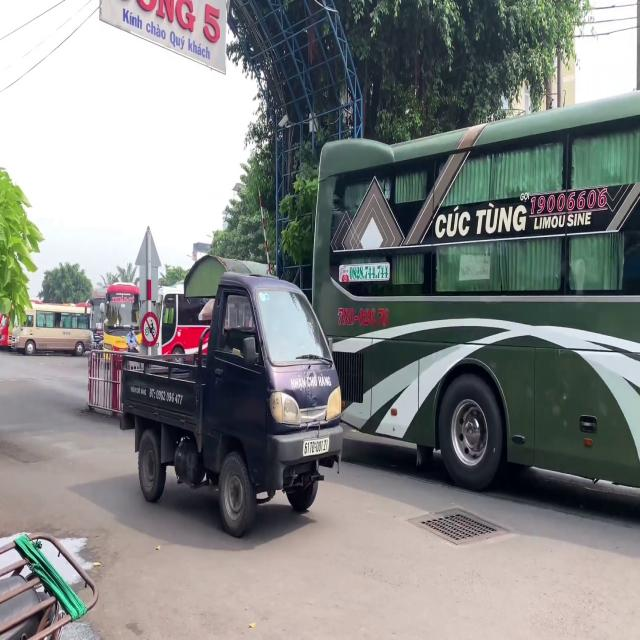bien_trang: (301, 435, 330, 456)
